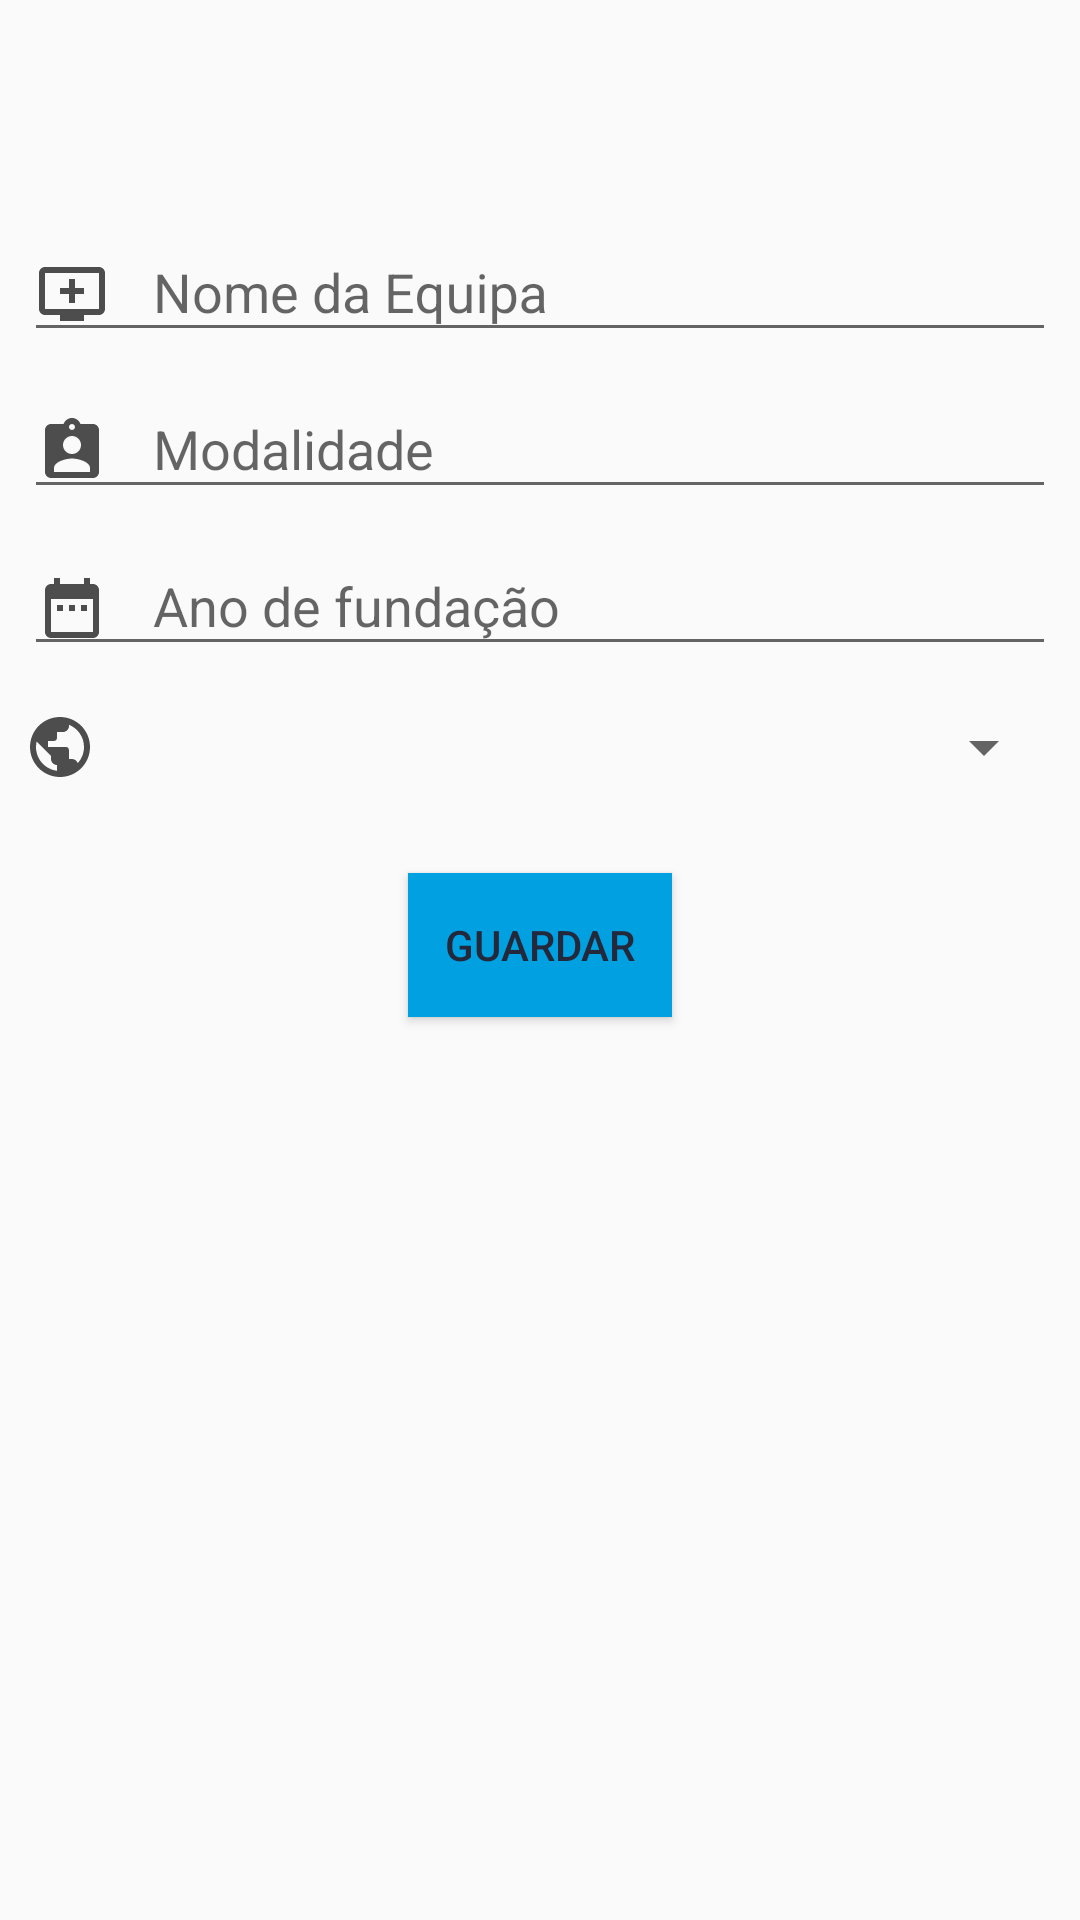

Where to tap for icons on this 1080x1920 app screen, as [x,y]:
public: [60,747]
